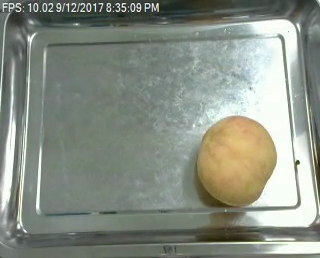Peach: (196, 114, 277, 207)
